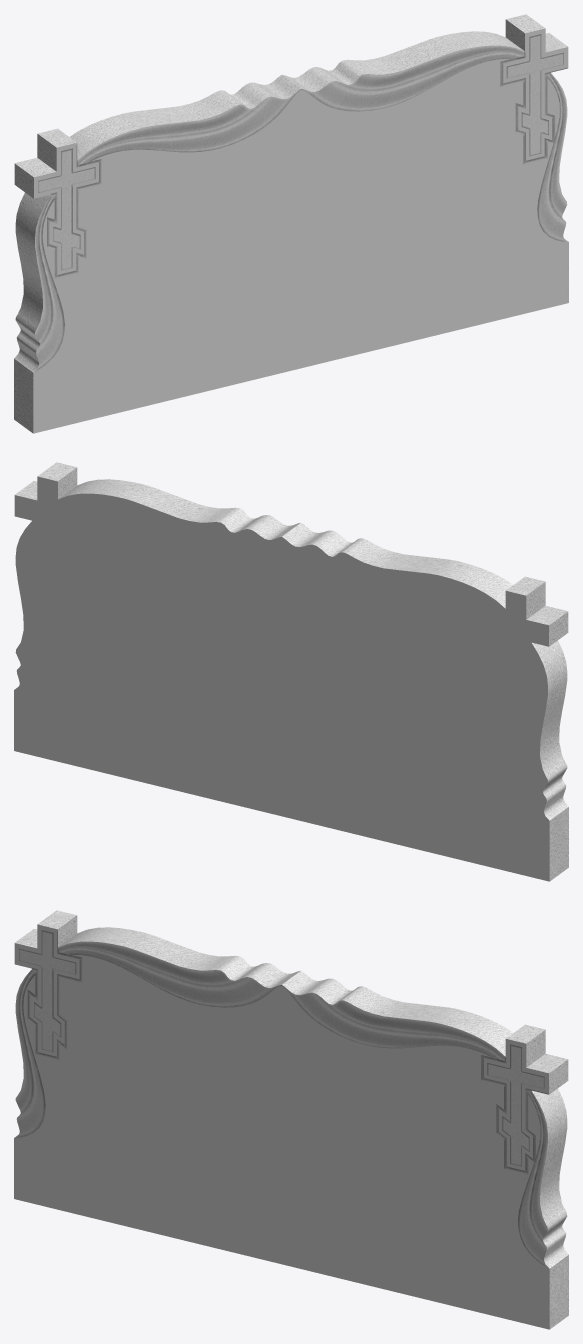
Rendered from cnd94cbf21f2_tkf.glb.
3 views of the same model, one above another, from view 1: azimuth 30°, elevation 25°; view 2: azimuth 150°, elevation 25°; view 3: azimuth 330°, elevation 25° (orthographic).
Visible parts, largest first — view 1: Pam-d03-274, Pam-d03-274_2_notexture; view 2: Pam-d03-274, Pam-d03-274_2_notexture; view 3: Pam-d03-274, Pam-d03-274_2_notexture.
Boxes of the visible parts, box(x1,y1,x2,y2) form: Pam-d03-274: box(34, 29, 567, 433); Pam-d03-274_2_notexture: box(14, 14, 568, 433); Pam-d03-274: box(14, 476, 549, 881); Pam-d03-274_2_notexture: box(15, 462, 568, 881); Pam-d03-274: box(15, 925, 548, 1329); Pam-d03-274_2_notexture: box(14, 910, 568, 1329).
Bounding box in the file's own units: 0.8 × 0.4 × 0.05.
Materials: 1 (1 with a texture image).
